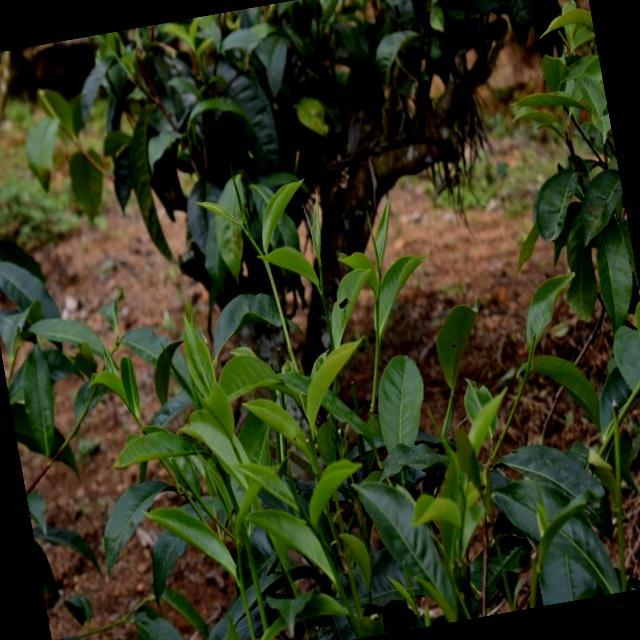Stem: (462, 497, 467, 503), (264, 260, 268, 265), (239, 582, 243, 587), (527, 367, 530, 371), (320, 291, 323, 295), (379, 271, 381, 276)
